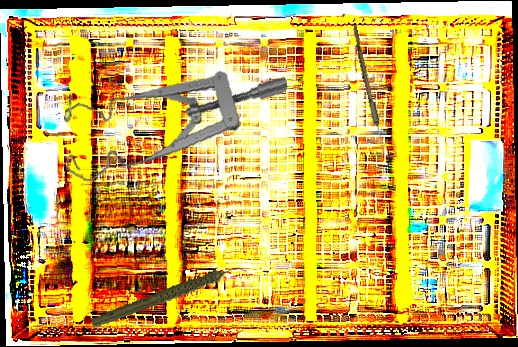Handpiece: (85, 264, 253, 330)
Speculum: (57, 50, 288, 204)
Surgical Spoon: (349, 24, 390, 161)
